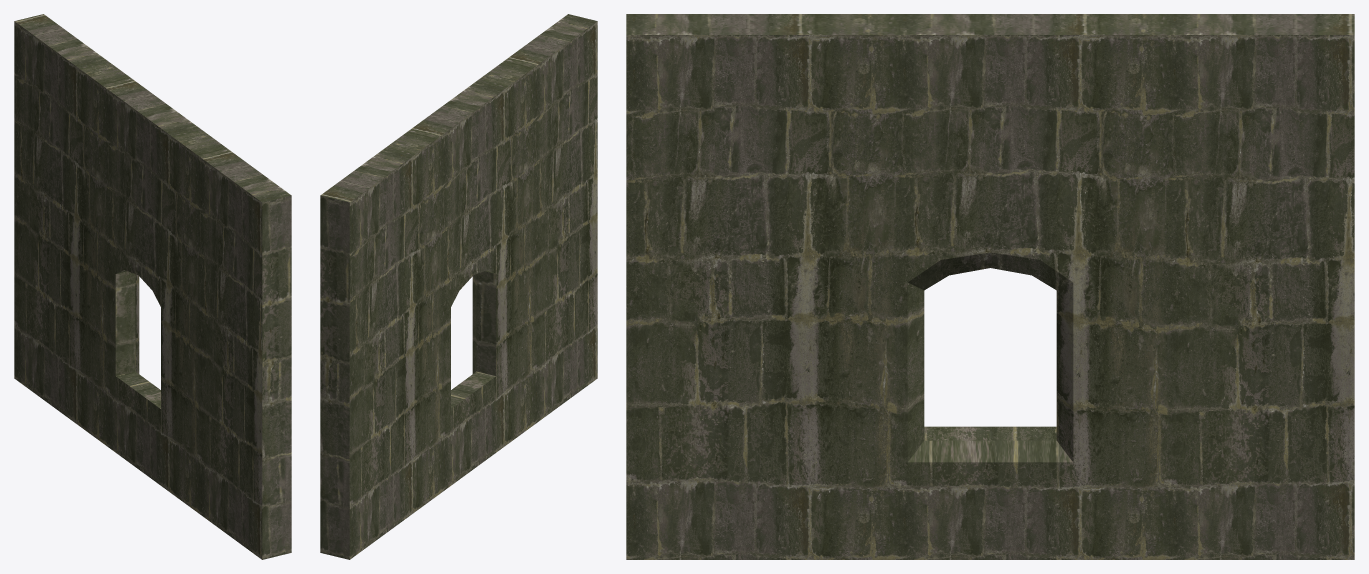
The model's file is Wall_Window.fbx.
3 views of the same model, side by side, from view 1: azimuth 30°, elevation 25°; view 2: azimuth 150°, elevation 25°; view 3: azimuth 270°, elevation 25° (orthographic). The views are drawn at different scales.
Parts seen in each view (by area): view 1: Wall_Window; view 2: Wall_Window; view 3: Wall_Window.
Part boxes in pixels (<box>): Wall_Window: <box>14,14,291,559</box>; Wall_Window: <box>320,14,597,559</box>; Wall_Window: <box>626,14,1354,559</box>.
Size of the model in its own units: 51 by 595 by 748.
